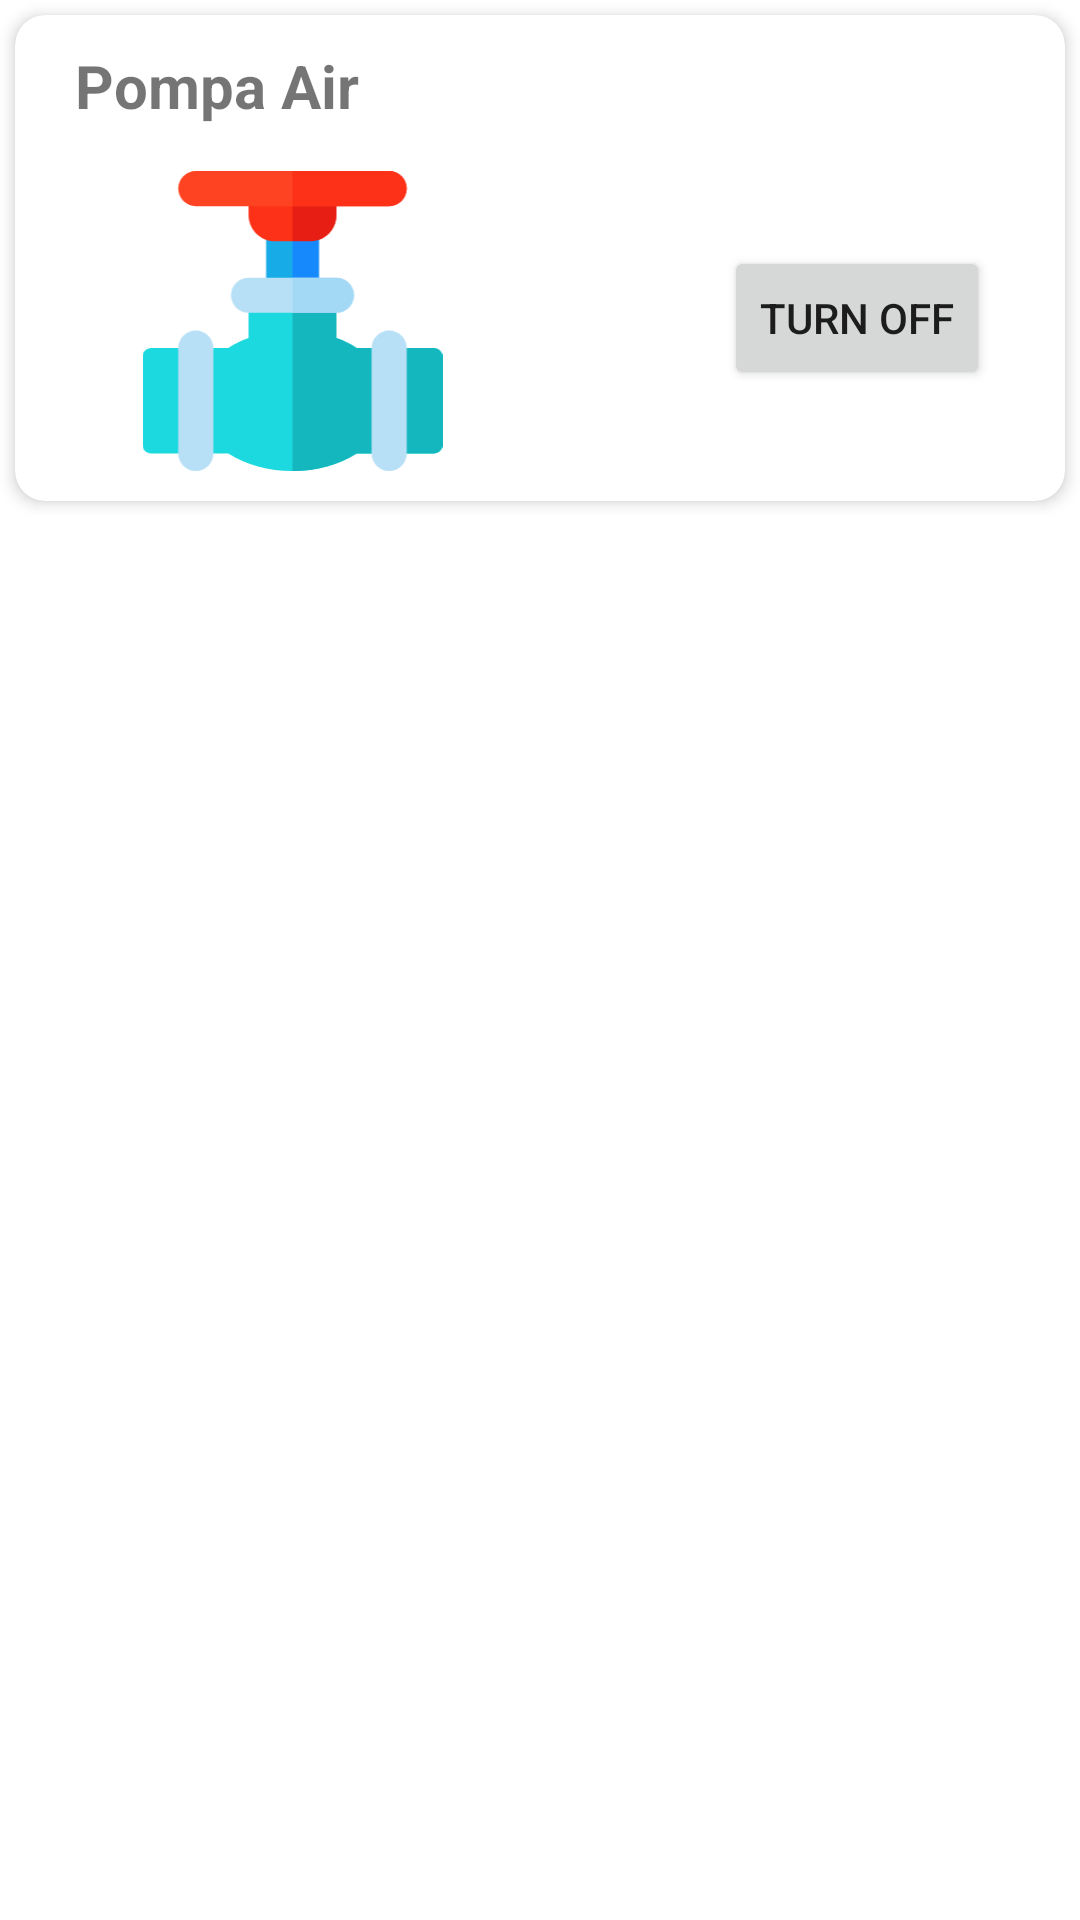

Screen size 1080x1920. Icon name, then its box in pixels as (x1, y1, x2, y2):
valve: (143, 171, 443, 471)
